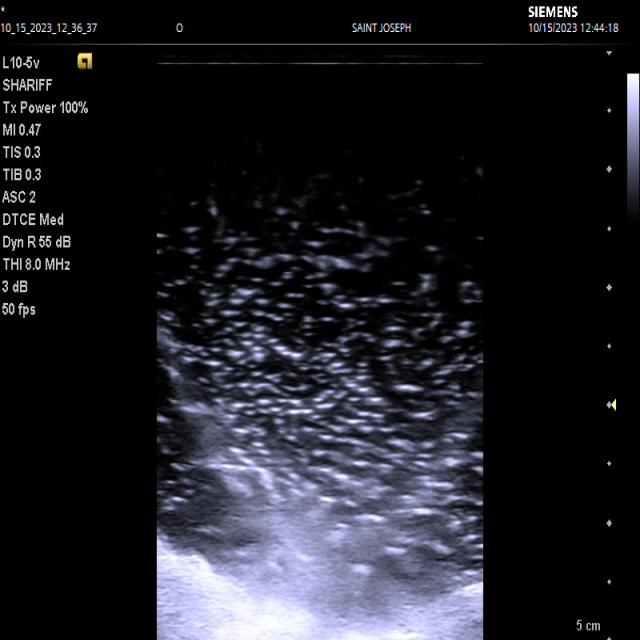tissue: (157, 540, 482, 640)
